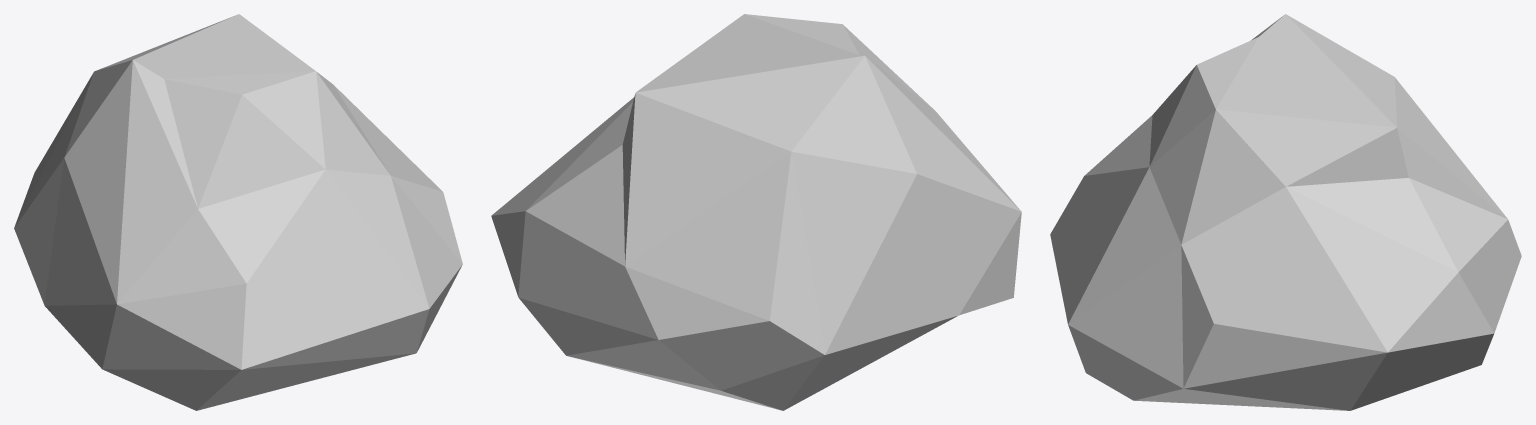
The model's file is Rock 4.fbx.
The picture shows the model from 3 angles, left to right: view 1: azimuth 30°, elevation 25°; view 2: azimuth 150°, elevation 25°; view 3: azimuth 270°, elevation 25°; orthographic projection. The views are drawn at different scales.
Visible parts, largest first — view 1: Rock 4; view 2: Rock 4; view 3: Rock 4.
Part boxes in pixels (<box>): Rock 4: <box>14,14,462,410</box>; Rock 4: <box>491,14,1021,410</box>; Rock 4: <box>1050,14,1521,410</box>.
Size of the model in its own units: 52.99 by 39.9 by 54.88.
